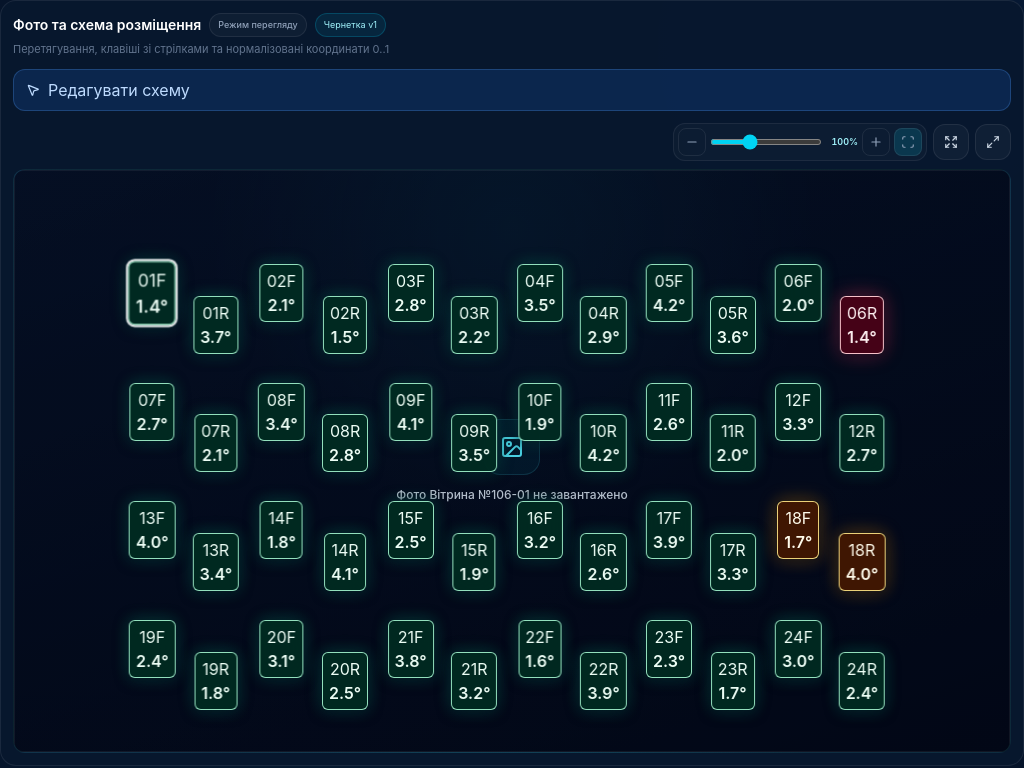
Test: RefrigerationLayoutEditor › saves the current local draft through the repository and advances its version
Click the button "Редагувати схему" at [119, 90], box x1=13 y1=69 x2=1011 y2=111
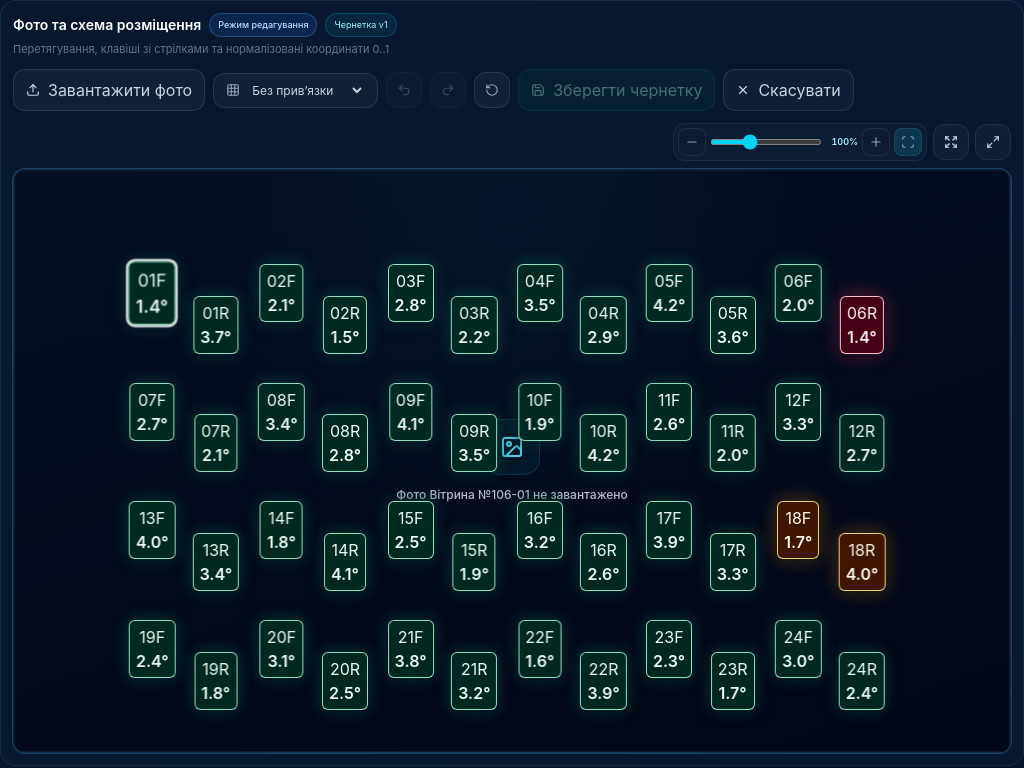
Press ArrowRight in the button "01F 1.4°", box x1=128 y1=261 x2=176 y2=325
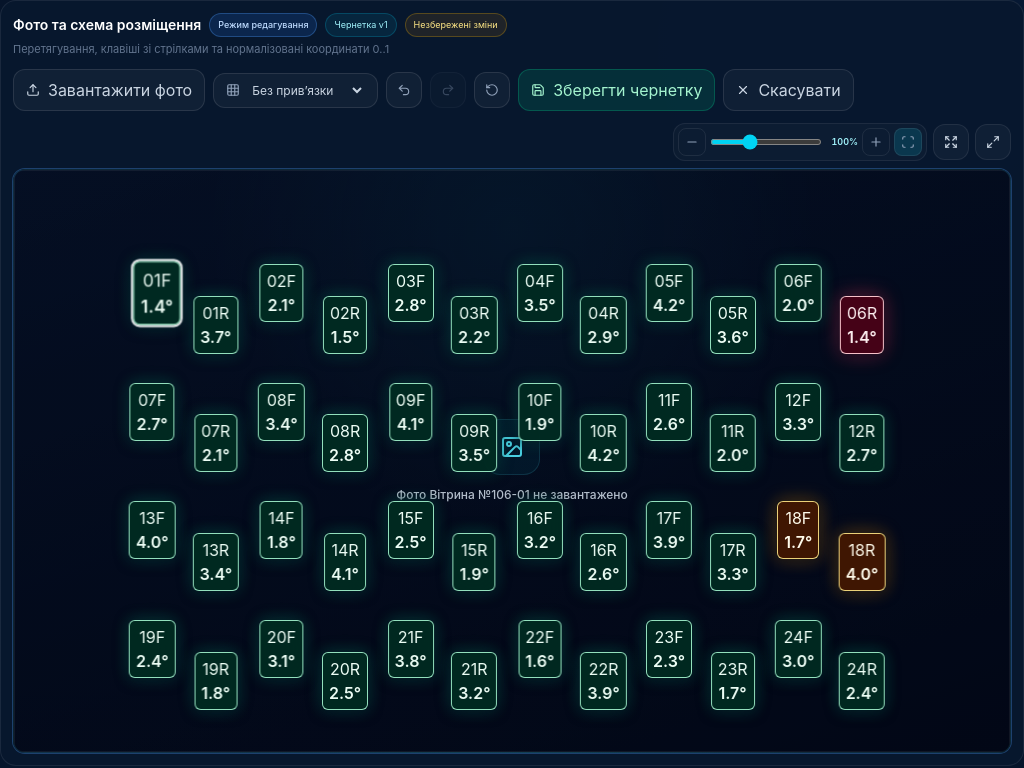
Expected: the button "Зберегти чернетку" is enabled
Click the button "Зберегти чернетку" at [617, 90], box x1=518 y1=69 x2=715 y2=111
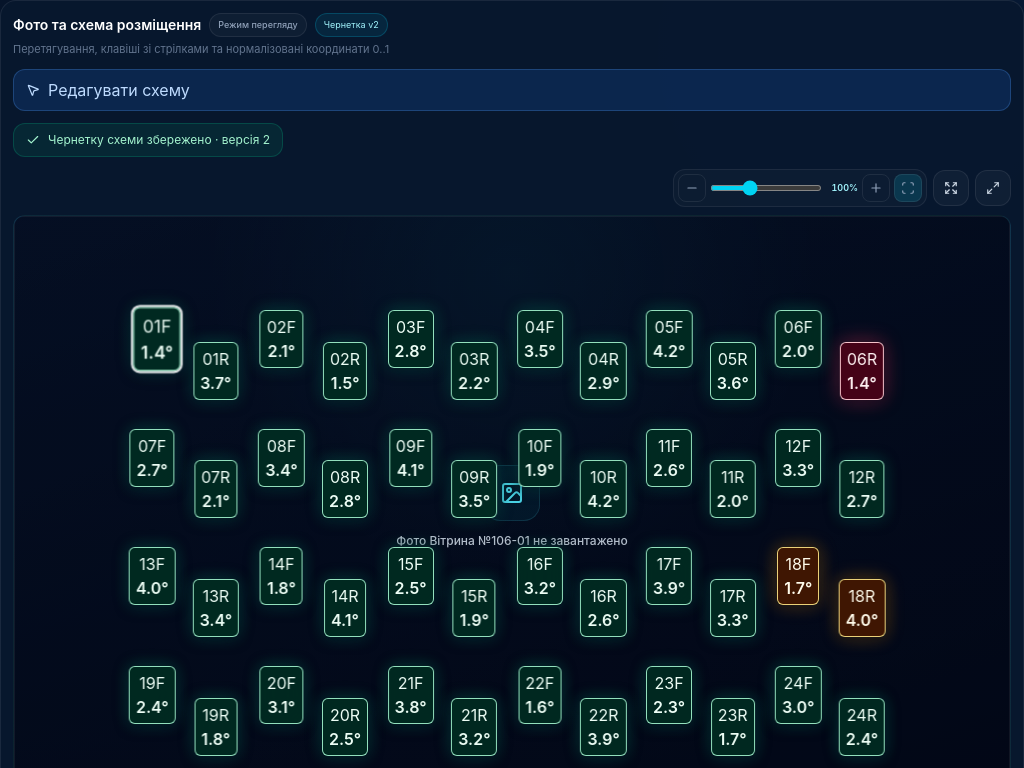
Expected: the text "Чернетку схеми збережено · версія 2" is shown, x1=13 y1=123 x2=283 y2=157
Expected: the text "Чернетка v2" is shown, x1=315 y1=13 x2=388 y2=36
Expected: the text "Режим перегляду" is shown, x1=209 y1=13 x2=307 y2=36
